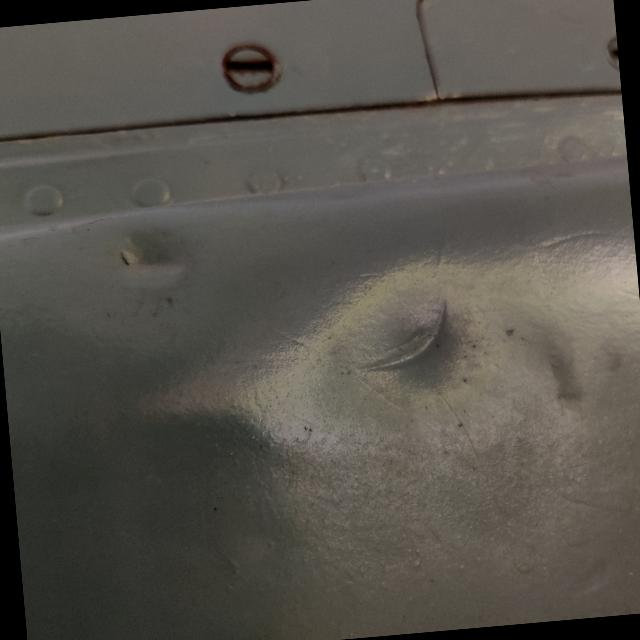dent: (309, 253, 489, 431), (82, 208, 212, 314)
